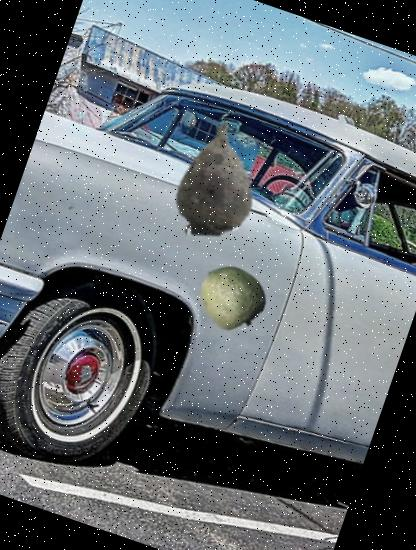Beetroot: (141, 104, 292, 256)
Limes: (190, 254, 274, 339)
